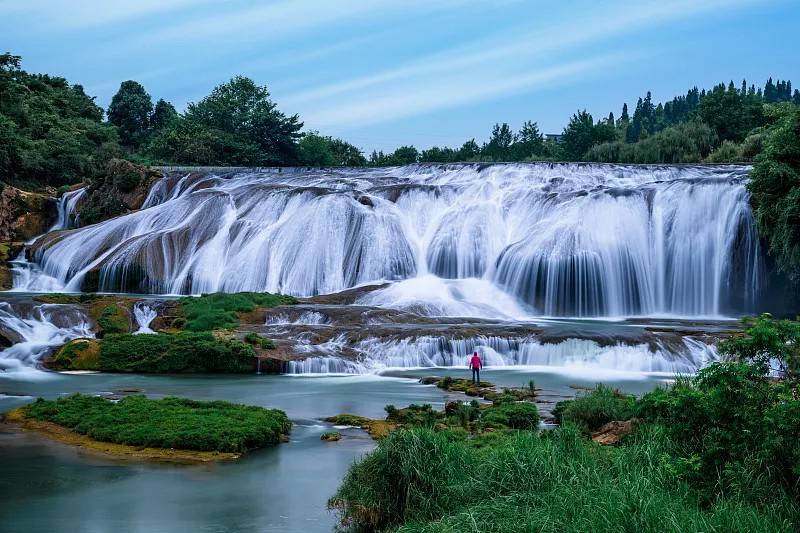Huangguoshu: (26, 165, 758, 321)
